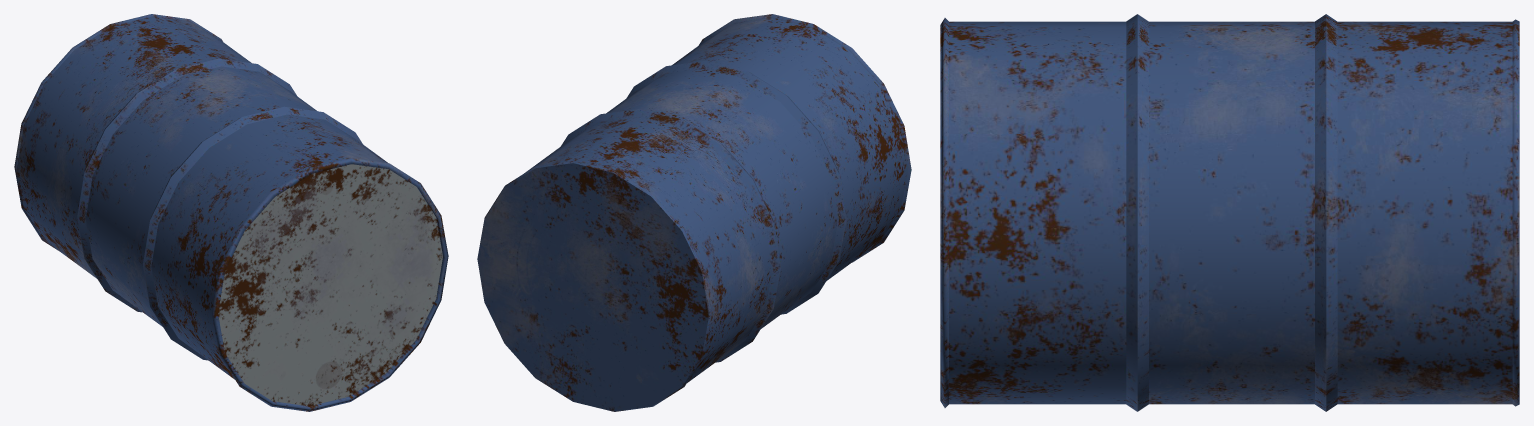
The model's file is blue_barrel.glb.
3 renders of one model, left to right at view 1: azimuth 30°, elevation 25°; view 2: azimuth 150°, elevation 25°; view 3: azimuth 270°, elevation 25°, orthographic. The views are drawn at different scales.
Parts seen in each view (by area): view 1: 55_Gallon_Drum01.001; view 2: 55_Gallon_Drum01.001; view 3: 55_Gallon_Drum01.001.
Part boxes in pixels (left/top/right/bottom): 55_Gallon_Drum01.001: left=14, top=14, right=448, bottom=411; 55_Gallon_Drum01.001: left=477, top=14, right=911, bottom=411; 55_Gallon_Drum01.001: left=940, top=14, right=1519, bottom=411.
Size of the model in its own units: 0.5946 by 0.5856 by 0.8622.
Materials: 1 (1 with a texture image).
